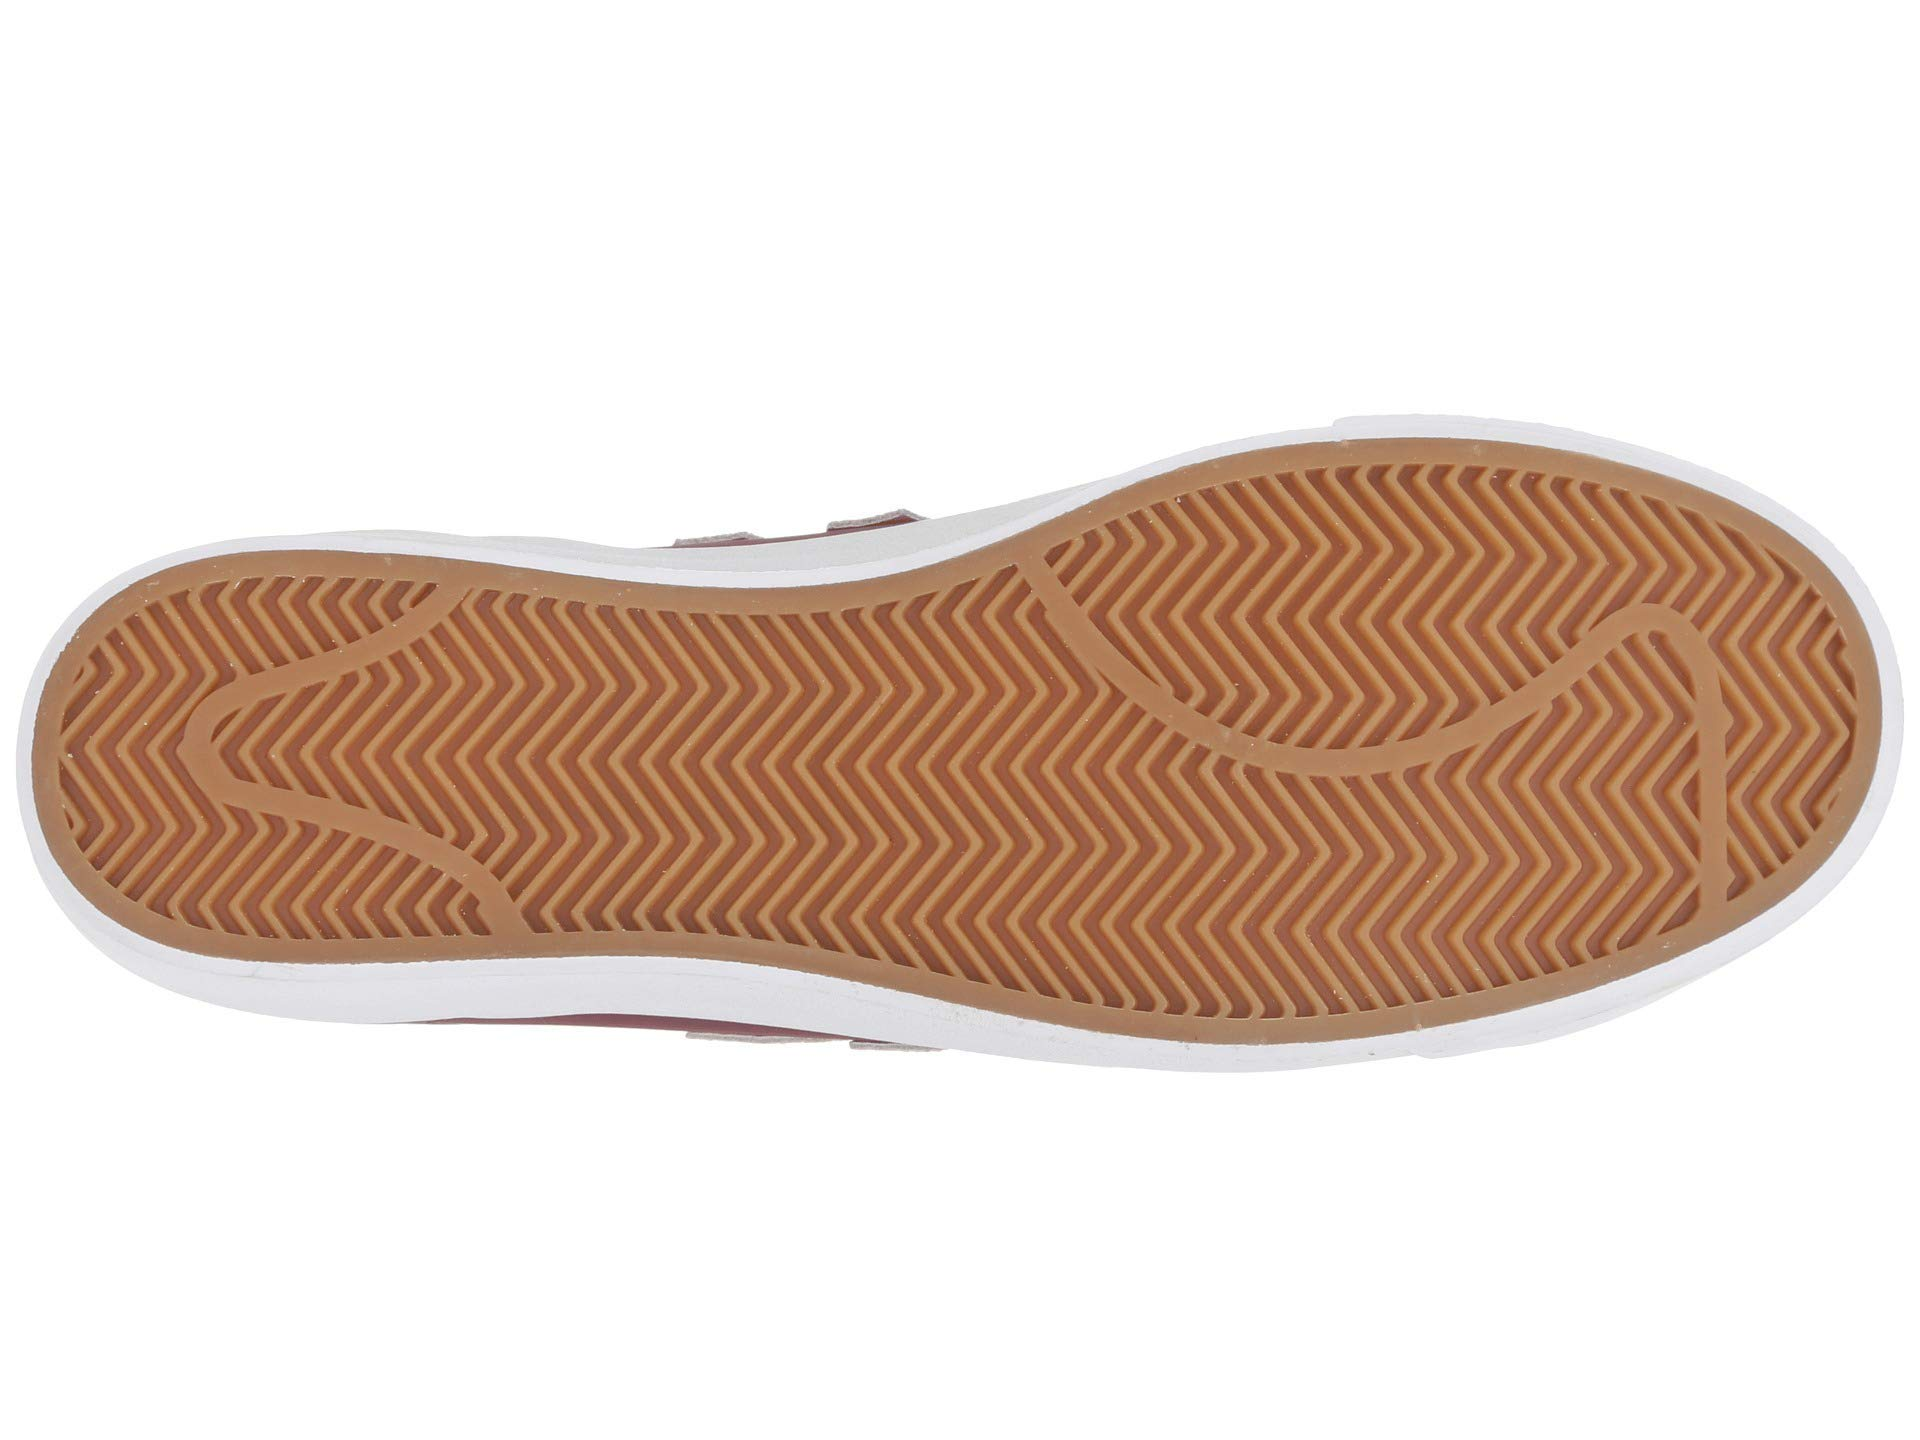chevron: (555, 632, 1052, 930), (1277, 516, 1655, 846)
line: (1277, 516, 1655, 846)
